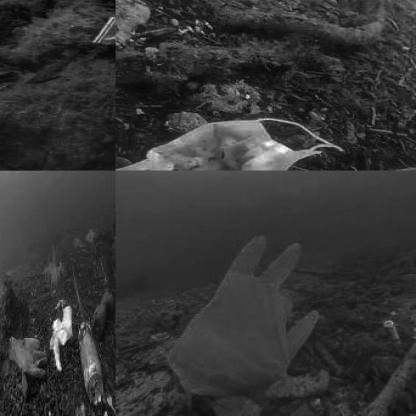Mask: (116, 116, 352, 170)
glove: (158, 226, 326, 409), (7, 324, 48, 401), (47, 299, 75, 379), (40, 237, 67, 301)
